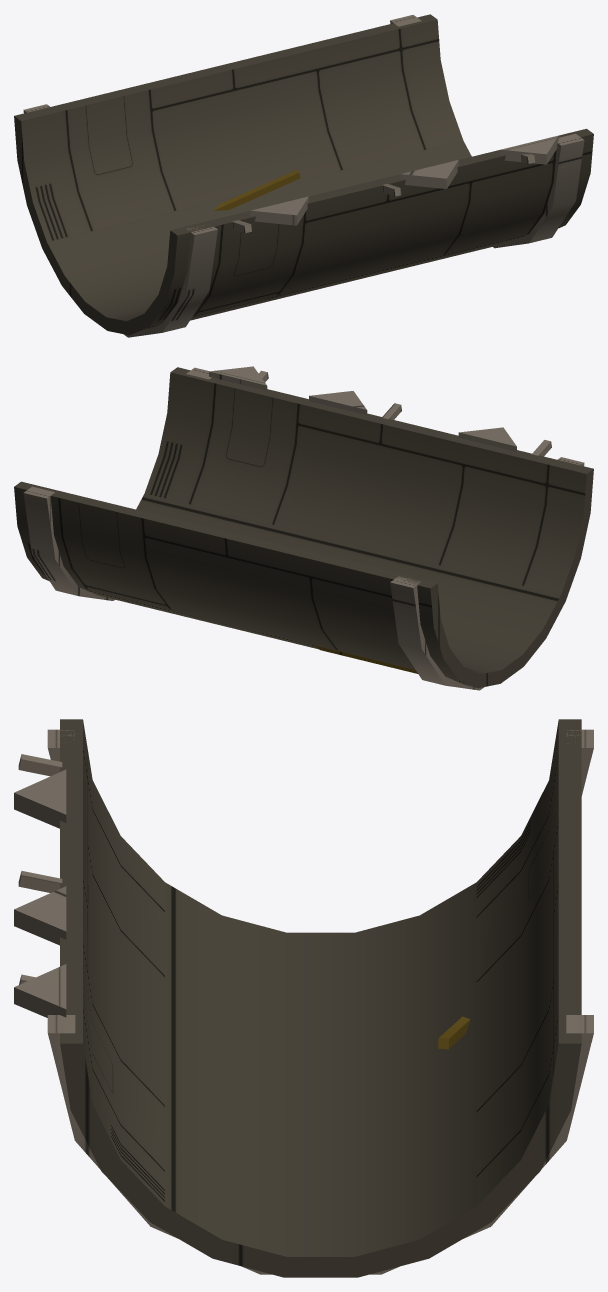
Rendered from cargo-split-pressure-vessel_lod2.glb.
3 views of the same model, one above another, from view 1: azimuth 30°, elevation 25°; view 2: azimuth 150°, elevation 25°; view 3: azimuth 270°, elevation 25° (orthographic). The views are drawn at different scales.
Visible parts, largest first — view 1: LOD2_Hull, LOD2_BrushedMetal, LOD2_Livery; view 2: LOD2_Hull, LOD2_BrushedMetal; view 3: LOD2_Hull, LOD2_BrushedMetal.
Boxes of the visible parts, bbox=[...] form: LOD2_Hull: bbox=[14, 14, 593, 335]; LOD2_BrushedMetal: bbox=[23, 15, 584, 337]; LOD2_Livery: bbox=[213, 170, 300, 210]; LOD2_Hull: bbox=[14, 367, 593, 688]; LOD2_BrushedMetal: bbox=[23, 366, 584, 690]; LOD2_Hull: bbox=[60, 719, 581, 1277]; LOD2_BrushedMetal: bbox=[14, 729, 593, 1274].
Bounding box in the file's own units: 2.5 × 0.8977 × 1.89.
3 materials, 3 textured.
